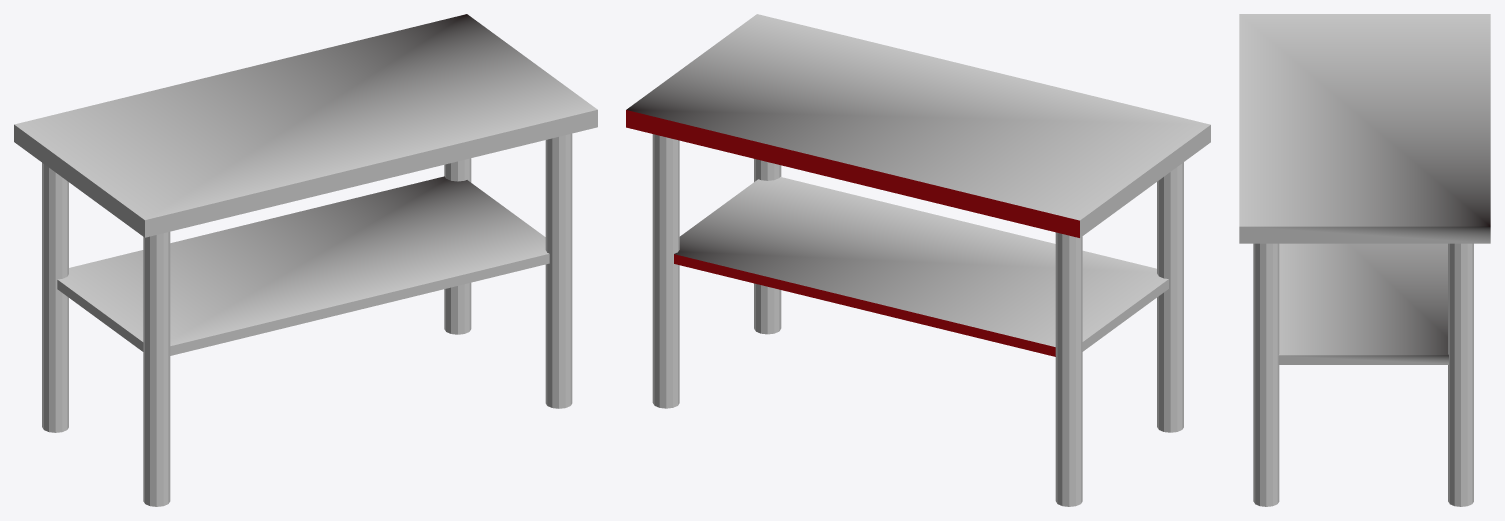
File: table_a.fbx
The picture shows the model from 3 angles, left to right: view 1: azimuth 30°, elevation 25°; view 2: azimuth 150°, elevation 25°; view 3: azimuth 270°, elevation 25°; orthographic projection. The views are drawn at different scales.
Parts seen in each view (by area): view 1: table.001, Cube.002, Cylinder.001, Cylinder, Cylinder.003, Cylinder.002; view 2: table.001, Cube.002, Cylinder.003, Cylinder.002, Cylinder.001, Cylinder; view 3: table.001, Cube.002, Cylinder, Cylinder.002.
Boxes of the visible parts, left/top/right/bottom form: table.001: left=14, top=14, right=597, bottom=237; Cube.002: left=57, top=176, right=549, bottom=355; Cylinder.001: left=143, top=231, right=170, bottom=506; Cylinder: left=545, top=133, right=572, bottom=408; Cylinder.003: left=42, top=163, right=68, bottom=432; Cylinder.002: left=444, top=158, right=471, bottom=334; table.001: left=626, top=14, right=1210, bottom=237; Cube.002: left=674, top=177, right=1168, bottom=356; Cylinder.003: left=1055, top=232, right=1082, bottom=506; Cylinder.002: left=652, top=134, right=679, bottom=408; Cylinder.001: left=1157, top=162, right=1183, bottom=432; Cylinder: left=754, top=159, right=781, bottom=334; table.001: left=1239, top=14, right=1490, bottom=243; Cube.002: left=1278, top=243, right=1448, bottom=364; Cylinder: left=1253, top=243, right=1279, bottom=506; Cylinder.002: left=1448, top=243, right=1473, bottom=506.
Bounding box in the file's own units: 236 × 118 × 148.
